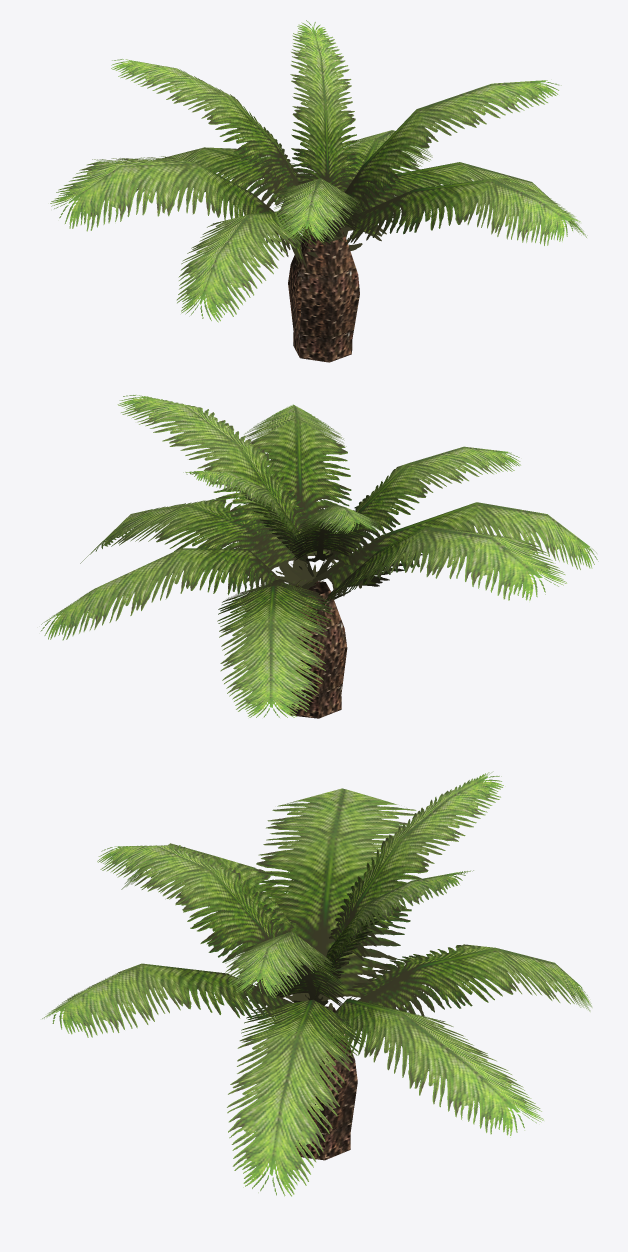
File: tree_g.FBX
The picture shows the model from 3 angles, top to bottom: view 1: azimuth 30°, elevation 25°; view 2: azimuth 150°, elevation 25°; view 3: azimuth 270°, elevation 25°; orthographic projection. The views are drawn at different scales.
Parts seen in each view (by area): view 1: tree_g; view 2: tree_g; view 3: tree_g.
Boxes of the visible parts, x1=… form: tree_g: x1=50, y1=20, x2=587, y2=362; tree_g: x1=40, y1=395, x2=598, y2=718; tree_g: x1=42, y1=771, x2=592, y2=1196.
Size of the model in its own units: 3.71 by 1.79 by 3.16.
2 materials, 2 textured.
